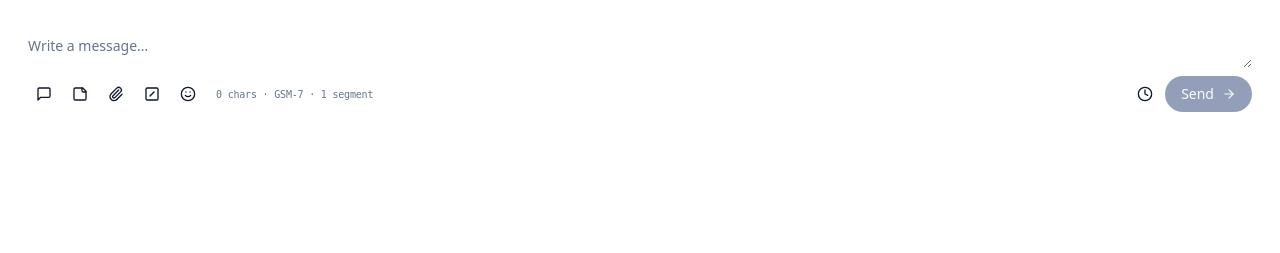
Test: Composer reply/note toggle › typing @a in note mode lists matching teammates and picking one inserts @Ada Lovelace
Click the tab named "Internal note": (80, 94) [64,78,96,110]
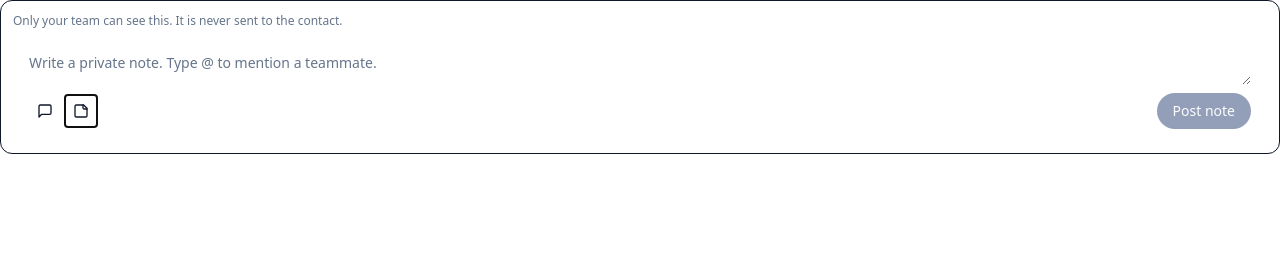
In the text box labelled "note": (640, 67) [29,49,1251,85], type "@a"
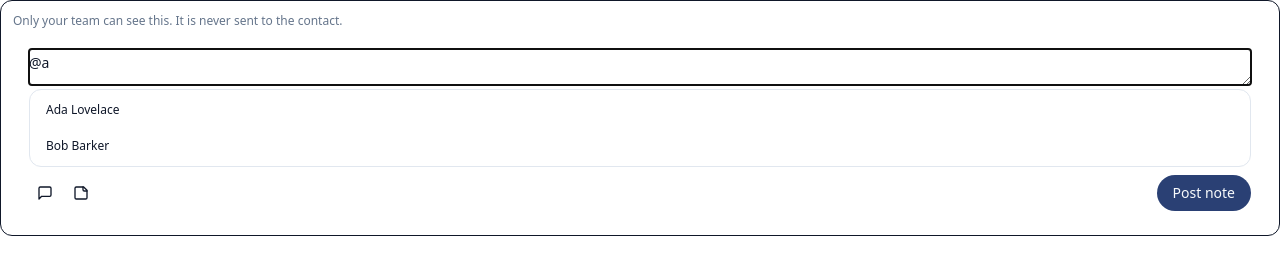
Click the option "Ada Lovelace": (83, 110) [34,94,1246,126]
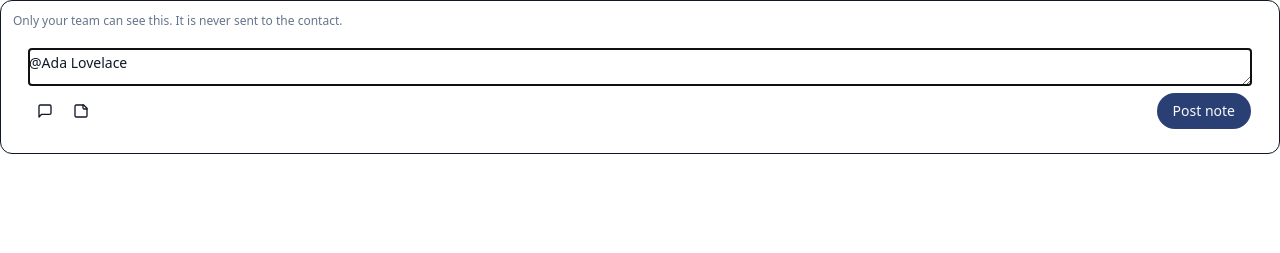
Check: the text box named "note" holds "@Ada Lovelace ", box [29,49,1251,85]
